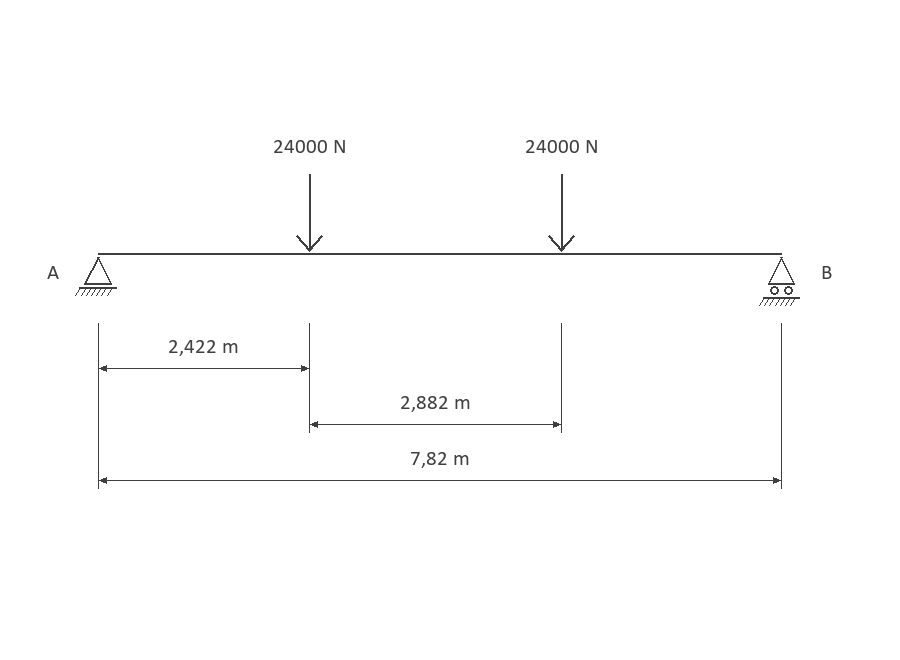pin_support: (75, 257, 117, 296)
point_load: (296, 174, 323, 252), (548, 174, 575, 252)
roller_support: (759, 257, 800, 306)
